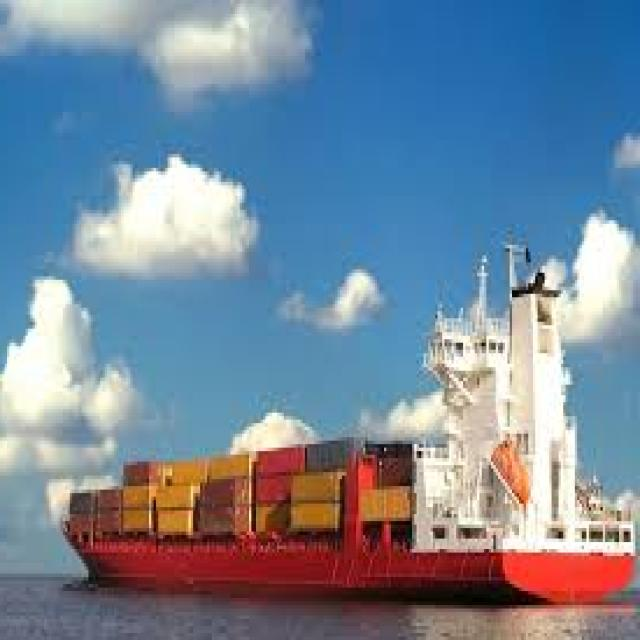Fishing Boat: (69, 226, 635, 607)
